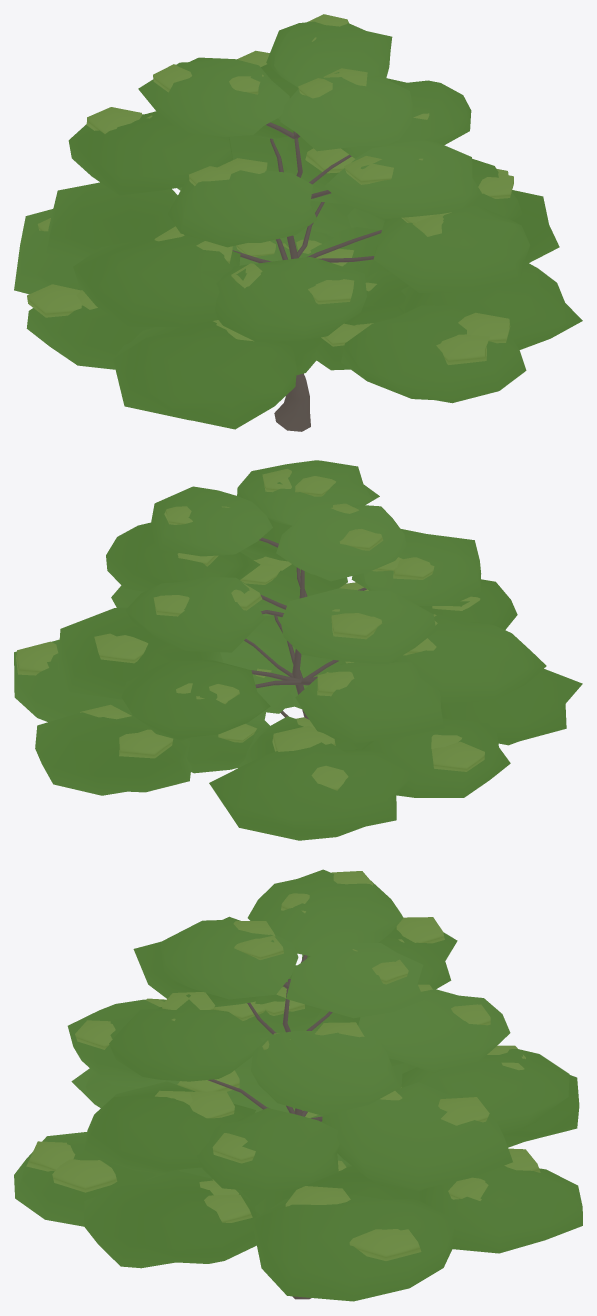
Rendered from Blender_FloweringDogwood_1.glb.
3 views of the same model, one above another, from view 1: azimuth 30°, elevation 25°; view 2: azimuth 150°, elevation 25°; view 3: azimuth 270°, elevation 25° (orthographic). The views are drawn at different scales.
Parts seen in each view (by area): view 1: Blender_FloweringDogwood_1; view 2: Blender_FloweringDogwood_1; view 3: Blender_FloweringDogwood_1.
Boxes of the visible parts, x1,y1,x2,y2 form: Blender_FloweringDogwood_1: (14, 14, 582, 431); Blender_FloweringDogwood_1: (14, 460, 582, 840); Blender_FloweringDogwood_1: (14, 869, 582, 1301).
Size of the model in its own units: 9.42 by 6.46 by 8.99.
